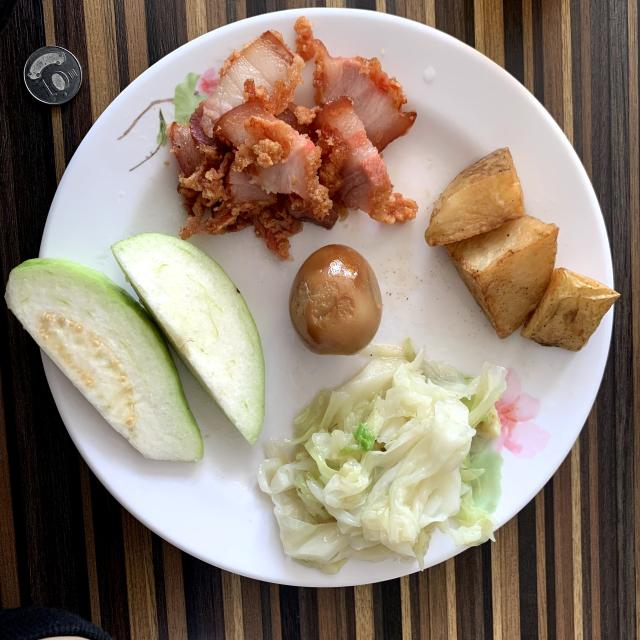cabbage: (258, 344, 506, 574)
coin: (24, 46, 81, 105)
fried potato: (425, 149, 619, 351)
guava -sliced-: (5, 232, 265, 461)
red grilled pork: (166, 18, 418, 259)
soy egg: (289, 245, 382, 355)
